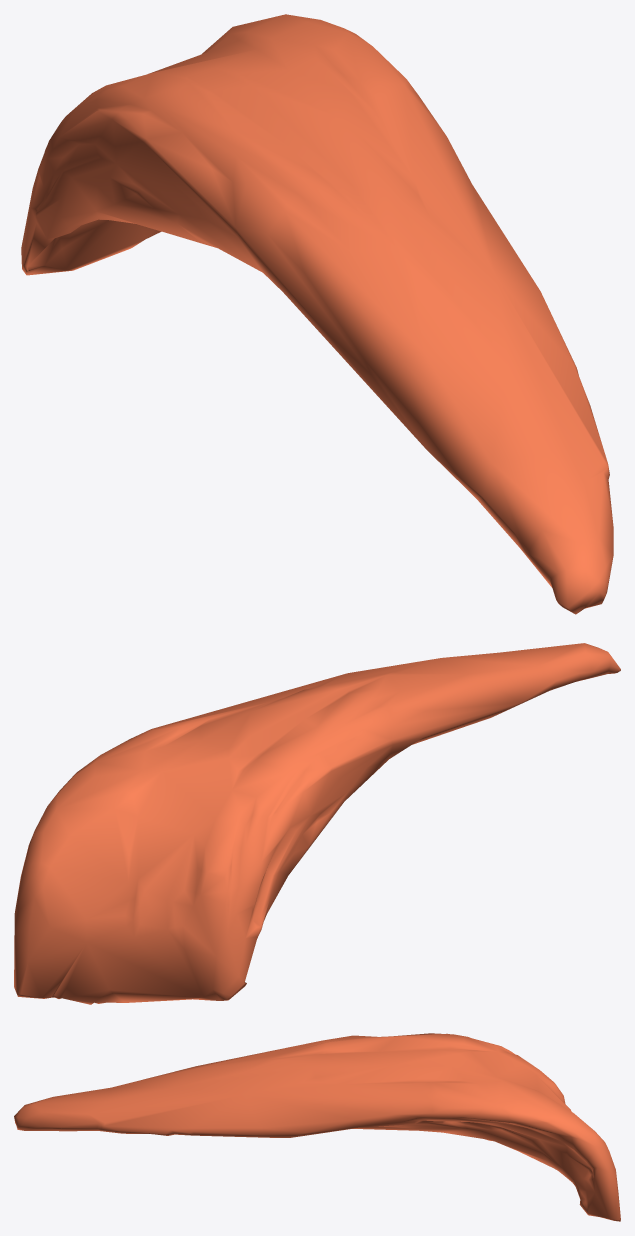
File: Geniohyoid_left.glb
3 renders of one model, top to bottom at view 1: azimuth 30°, elevation 25°; view 2: azimuth 150°, elevation 25°; view 3: azimuth 270°, elevation 25°, orthographic. The views are drawn at different scales.
Parts seen in each view (by area): view 1: Geniohyoid_muscle.l_Generated_Mesh_From_X3D.490; view 2: Geniohyoid_muscle.l_Generated_Mesh_From_X3D.490; view 3: Geniohyoid_muscle.l_Generated_Mesh_From_X3D.490.
Boxes of the visible parts, left/top/right/bottom form: Geniohyoid_muscle.l_Generated_Mesh_From_X3D.490: left=21, top=14, right=613, bottom=614; Geniohyoid_muscle.l_Generated_Mesh_From_X3D.490: left=14, top=643, right=620, bottom=1004; Geniohyoid_muscle.l_Generated_Mesh_From_X3D.490: left=14, top=1033, right=620, bottom=1221.
Bounding box in the file's own units: 0.0112 × 0.0102 × 0.0401.
